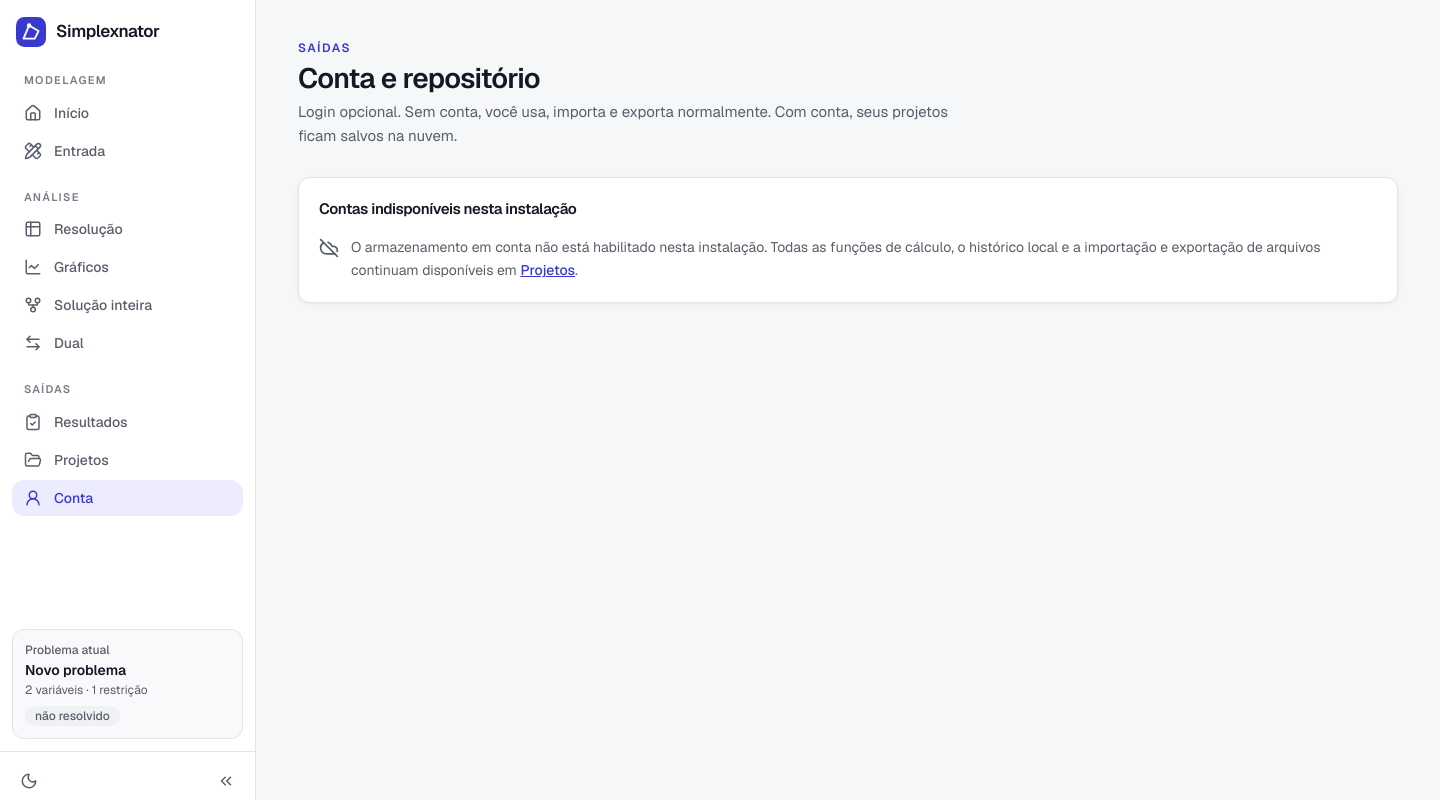
Test: sem Firebase configurado › a página Conta informa a indisponibilidade e o restante do aplicativo segue funcionando
The image size is (1440, 800).
Check: the heading "Contas indisponíveis nesta instalação" is shown, box [319, 198, 576, 220]
Click the link "Entrada" at (65, 150), box [24, 142, 105, 160]
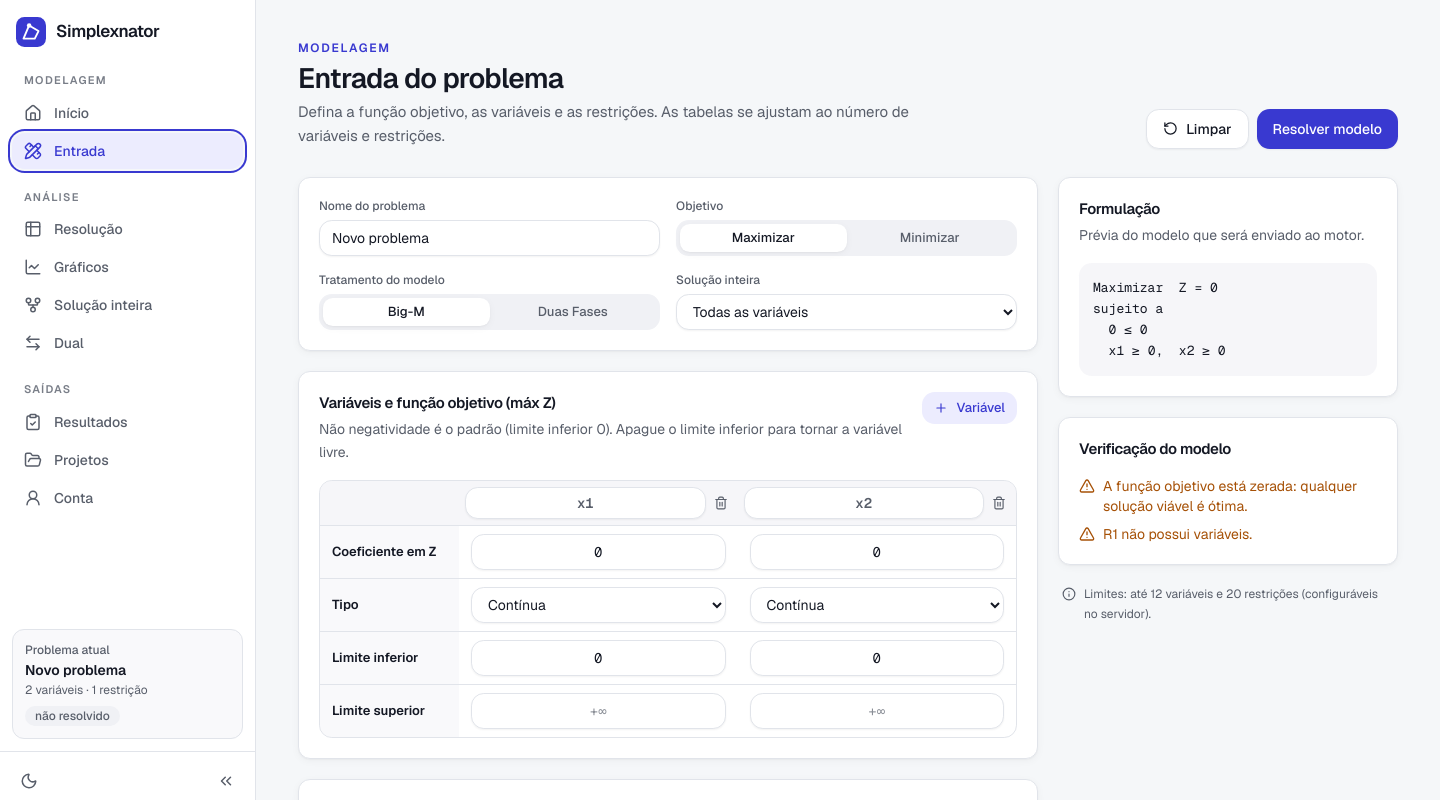
Check: the heading "Entrada do problema" is shown, box [298, 60, 563, 96]
Click the button "Resolver modelo" at (1327, 129), box [1257, 109, 1398, 149]
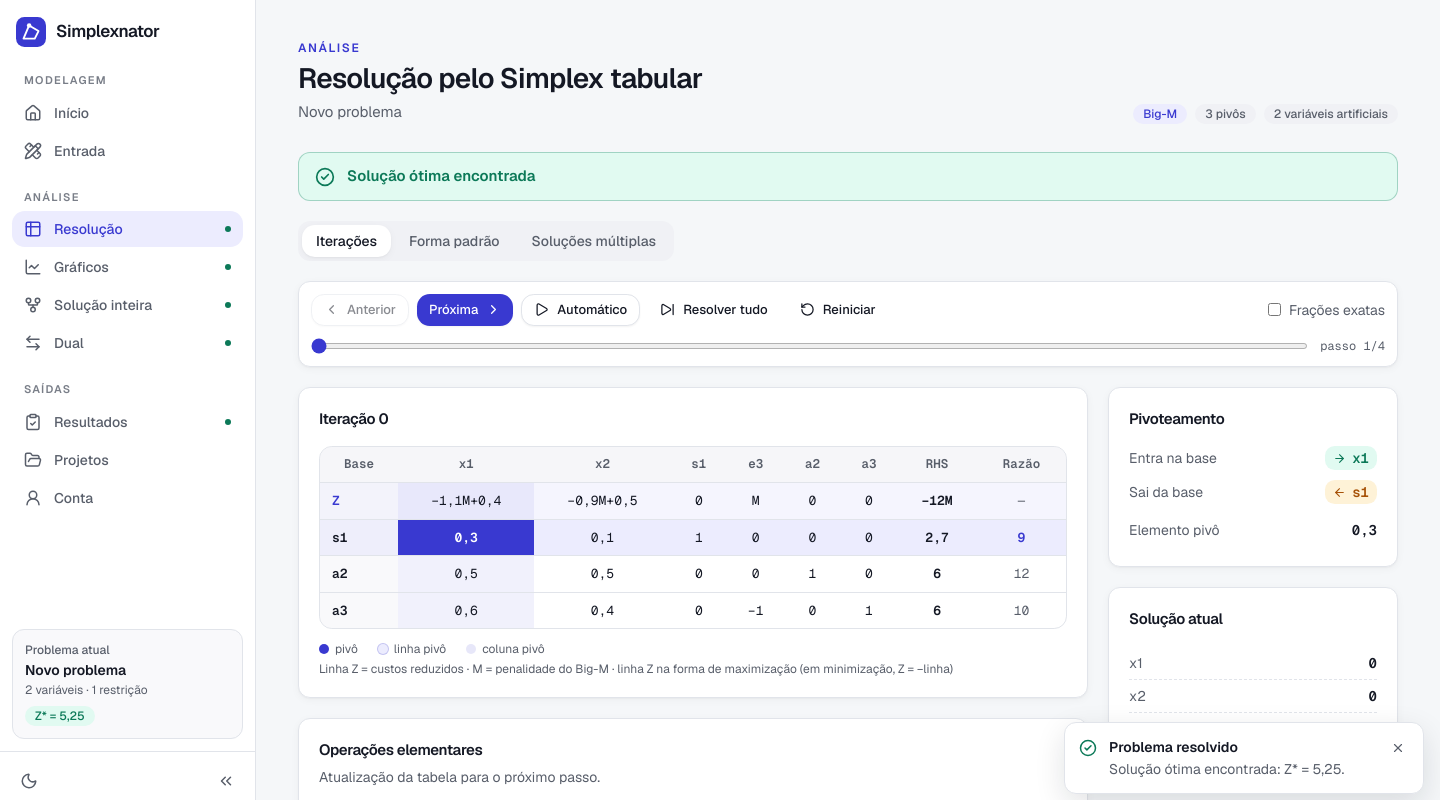
Check: the heading "Resolução pelo Simplex tabular" is shown, box [298, 62, 702, 94]
